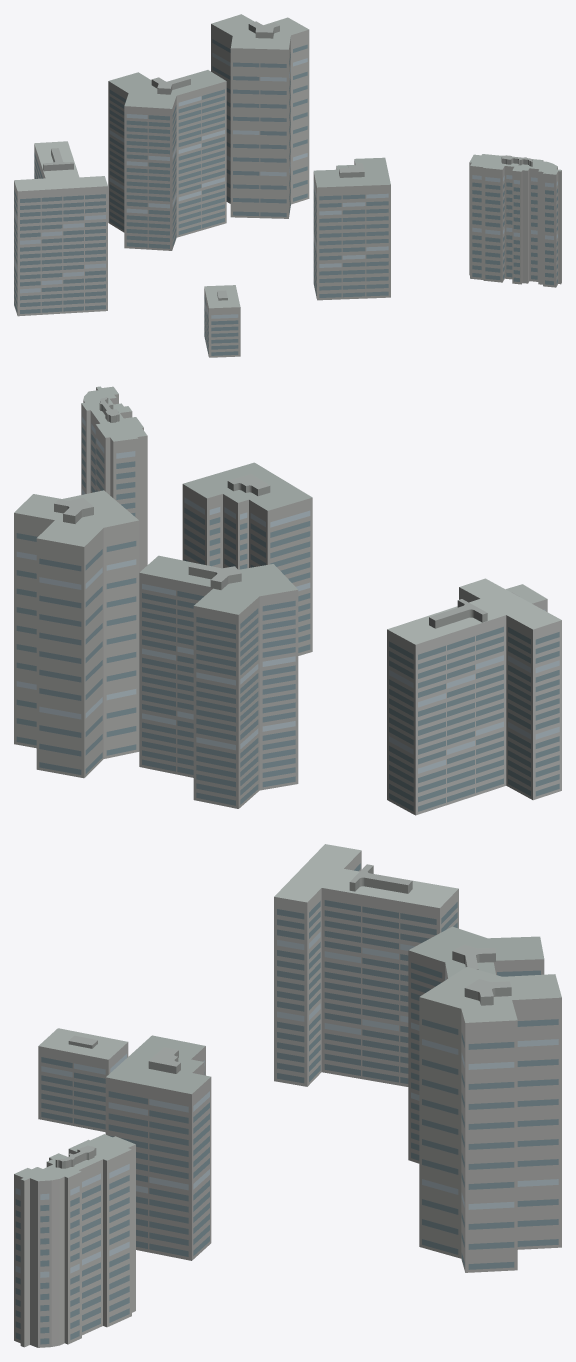
File: apt-a10026036.glb
The picture shows the model from 3 angles, top to bottom: view 1: azimuth 30°, elevation 25°; view 2: azimuth 150°, elevation 25°; view 3: azimuth 270°, elevation 25°; orthographic projection. The views are drawn at different scales.
Parts seen in each view (by area): view 1: apt-a10026036; view 2: apt-a10026036; view 3: apt-a10026036.
Boxes of the visible parts, x1=… form: apt-a10026036: x1=14, y1=14, x2=561, y2=357; apt-a10026036: x1=14, y1=386, x2=561, y2=815; apt-a10026036: x1=14, y1=844, x2=561, y2=1347.
Bounding box in the file's own units: 188 × 71 × 136.
